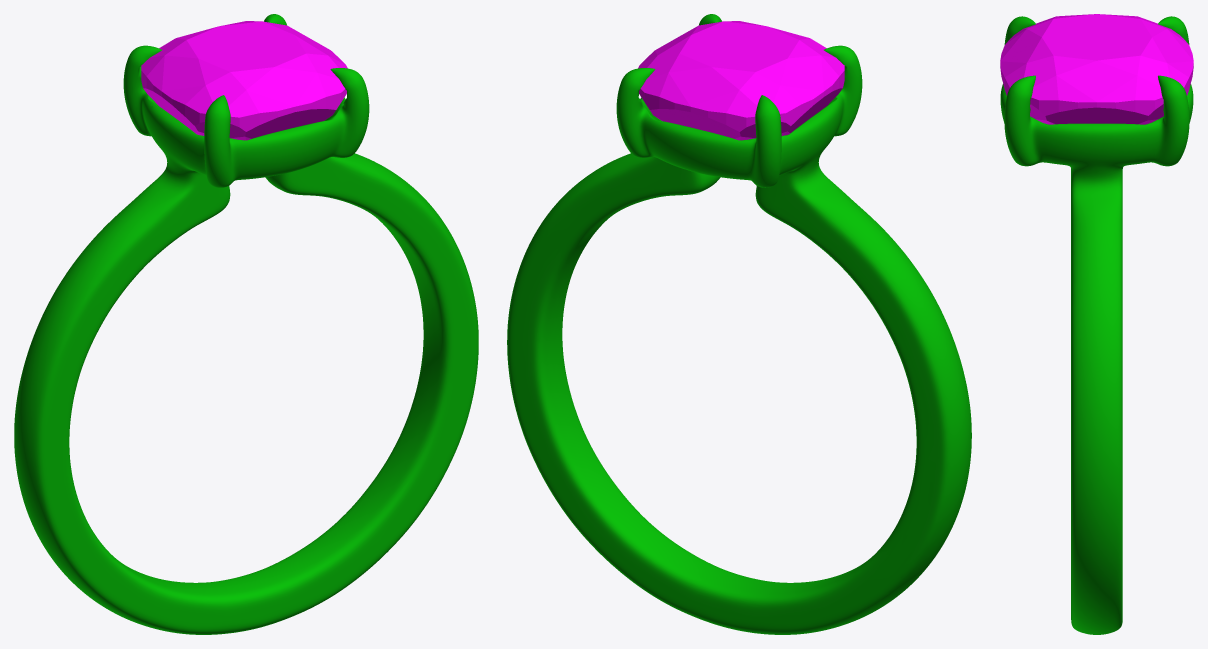
The model's file is BE1742_CU_200ct_RENDER.glb.
3 renders of one model, left to right at view 1: azimuth 30°, elevation 25°; view 2: azimuth 150°, elevation 25°; view 3: azimuth 270°, elevation 25°, orthographic.
Visible parts, largest first — view 1: Metal 01, CS_Diamond_Cushion; view 2: Metal 01, CS_Diamond_Cushion; view 3: Metal 01, CS_Diamond_Cushion.
Boxes of the visible parts, left/top/right/bottom form: Metal 01: left=14, top=14, right=478, bottom=634; CS_Diamond_Cushion: left=141, top=21, right=347, bottom=140; Metal 01: left=507, top=14, right=971, bottom=634; CS_Diamond_Cushion: left=638, top=21, right=844, bottom=140; Metal 01: left=1000, top=16, right=1193, bottom=634; CS_Diamond_Cushion: left=1000, top=14, right=1193, bottom=124.
Size of the model in its own units: 20.09 by 24.53 by 7.5.
